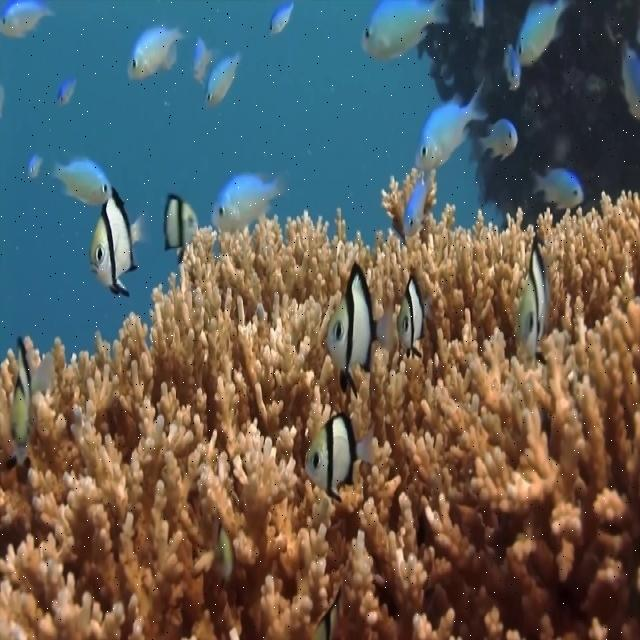fish: (326, 264, 395, 399), (414, 80, 489, 169), (90, 189, 149, 296), (306, 409, 373, 502), (8, 340, 52, 462), (360, 0, 447, 60), (211, 167, 285, 231), (517, 242, 550, 353), (517, 1, 572, 64), (129, 27, 186, 81), (51, 158, 112, 204), (399, 275, 433, 353), (532, 167, 582, 211), (163, 192, 200, 248), (0, 1, 56, 38), (207, 51, 242, 108), (478, 121, 519, 160)
reefs: (0, 175, 639, 639)
